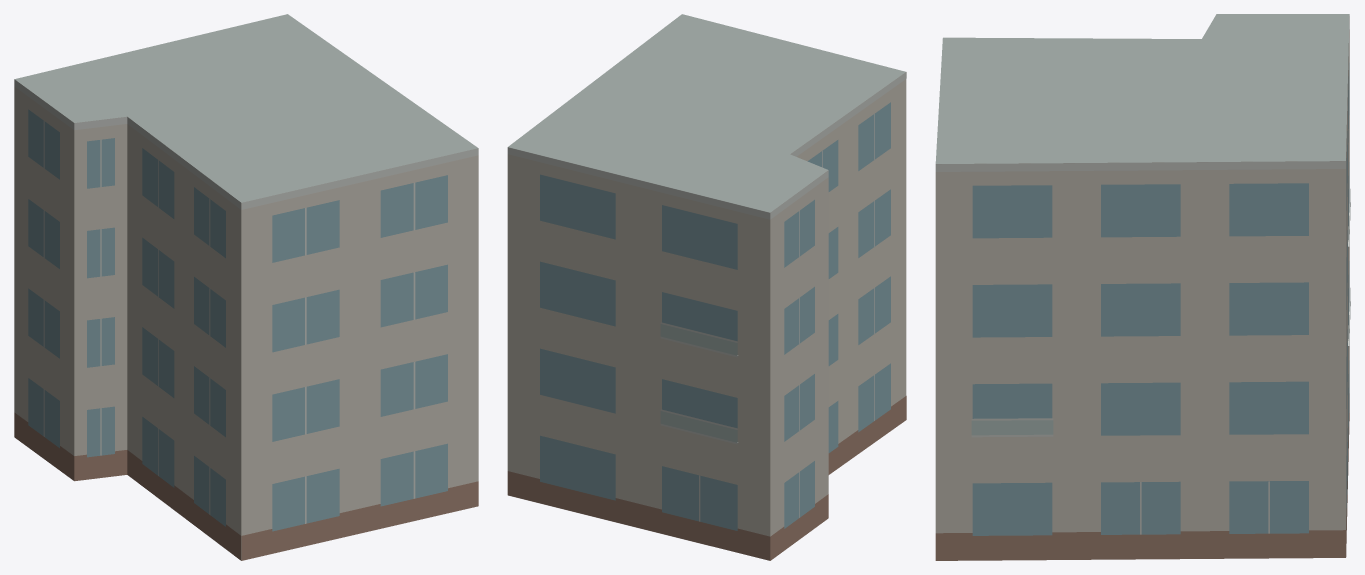
The model's file is residential-0a08e055-621e-4590-81b2-bdebaae260be.glb.
3 views of the same model, side by side, from view 1: azimuth 30°, elevation 25°; view 2: azimuth 150°, elevation 25°; view 3: azimuth 270°, elevation 25° (orthographic). The views are drawn at different scales.
Visible parts, largest first — view 1: residential-0a08e055-621e-4590-81b2-bdebaae260be.tmp; view 2: residential-0a08e055-621e-4590-81b2-bdebaae260be.tmp; view 3: residential-0a08e055-621e-4590-81b2-bdebaae260be.tmp.
Boxes of the visible parts, box(x1,y1,x2,y2) form: residential-0a08e055-621e-4590-81b2-bdebaae260be.tmp: box(14, 14, 478, 560); residential-0a08e055-621e-4590-81b2-bdebaae260be.tmp: box(507, 14, 906, 560); residential-0a08e055-621e-4590-81b2-bdebaae260be.tmp: box(935, 14, 1350, 560).
Bounding box in the file's own units: 9.93 × 12.2 × 11.57.
